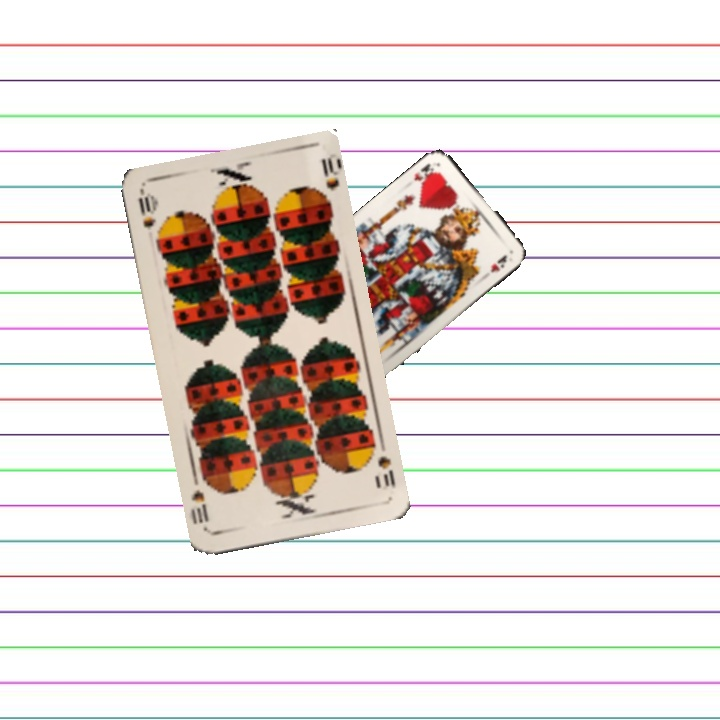HK: (409, 159, 439, 187)
S10: (365, 437, 398, 490), (134, 189, 158, 231)
